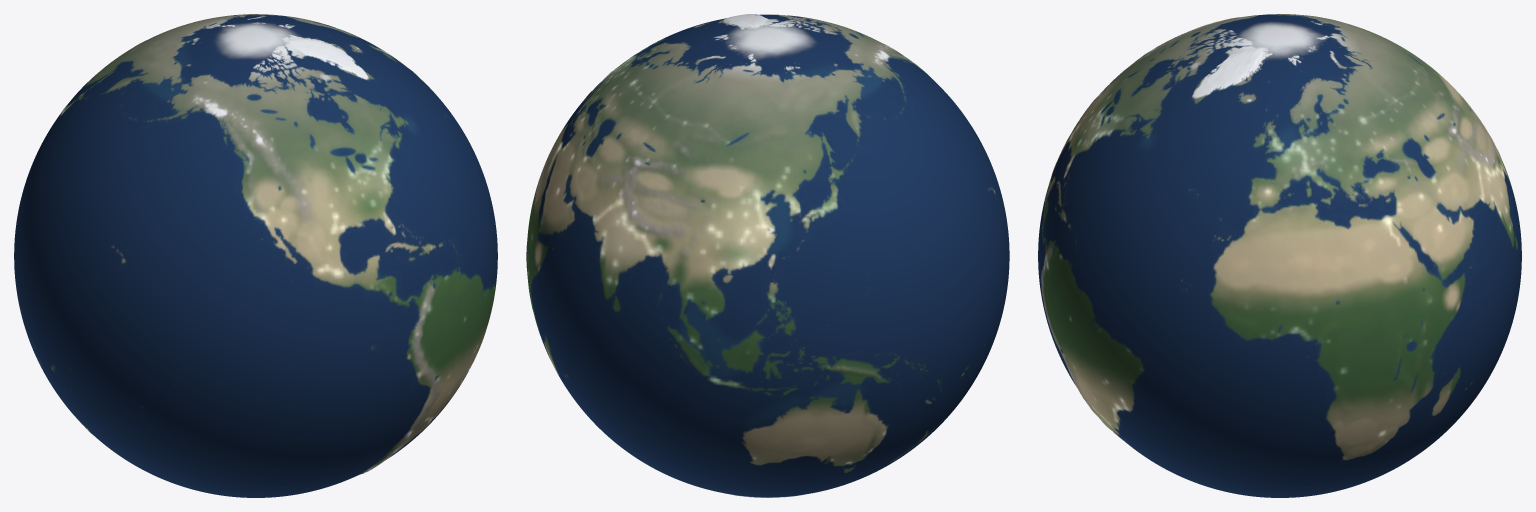
File: earth.glb
3 views of the same model, side by side, from view 1: azimuth 30°, elevation 25°; view 2: azimuth 150°, elevation 25°; view 3: azimuth 270°, elevation 25° (orthographic).
Parts seen in each view (by area): view 1: Earth; view 2: Earth; view 3: Earth.
Part boxes in pixels (box(x1,y1,x2,y2)): Earth: box(14, 14, 497, 497); Earth: box(526, 14, 1009, 497); Earth: box(1038, 14, 1521, 497).
Size of the model in its own units: 2 by 2.01 by 2.
Materials: 1 (1 with a texture image).
